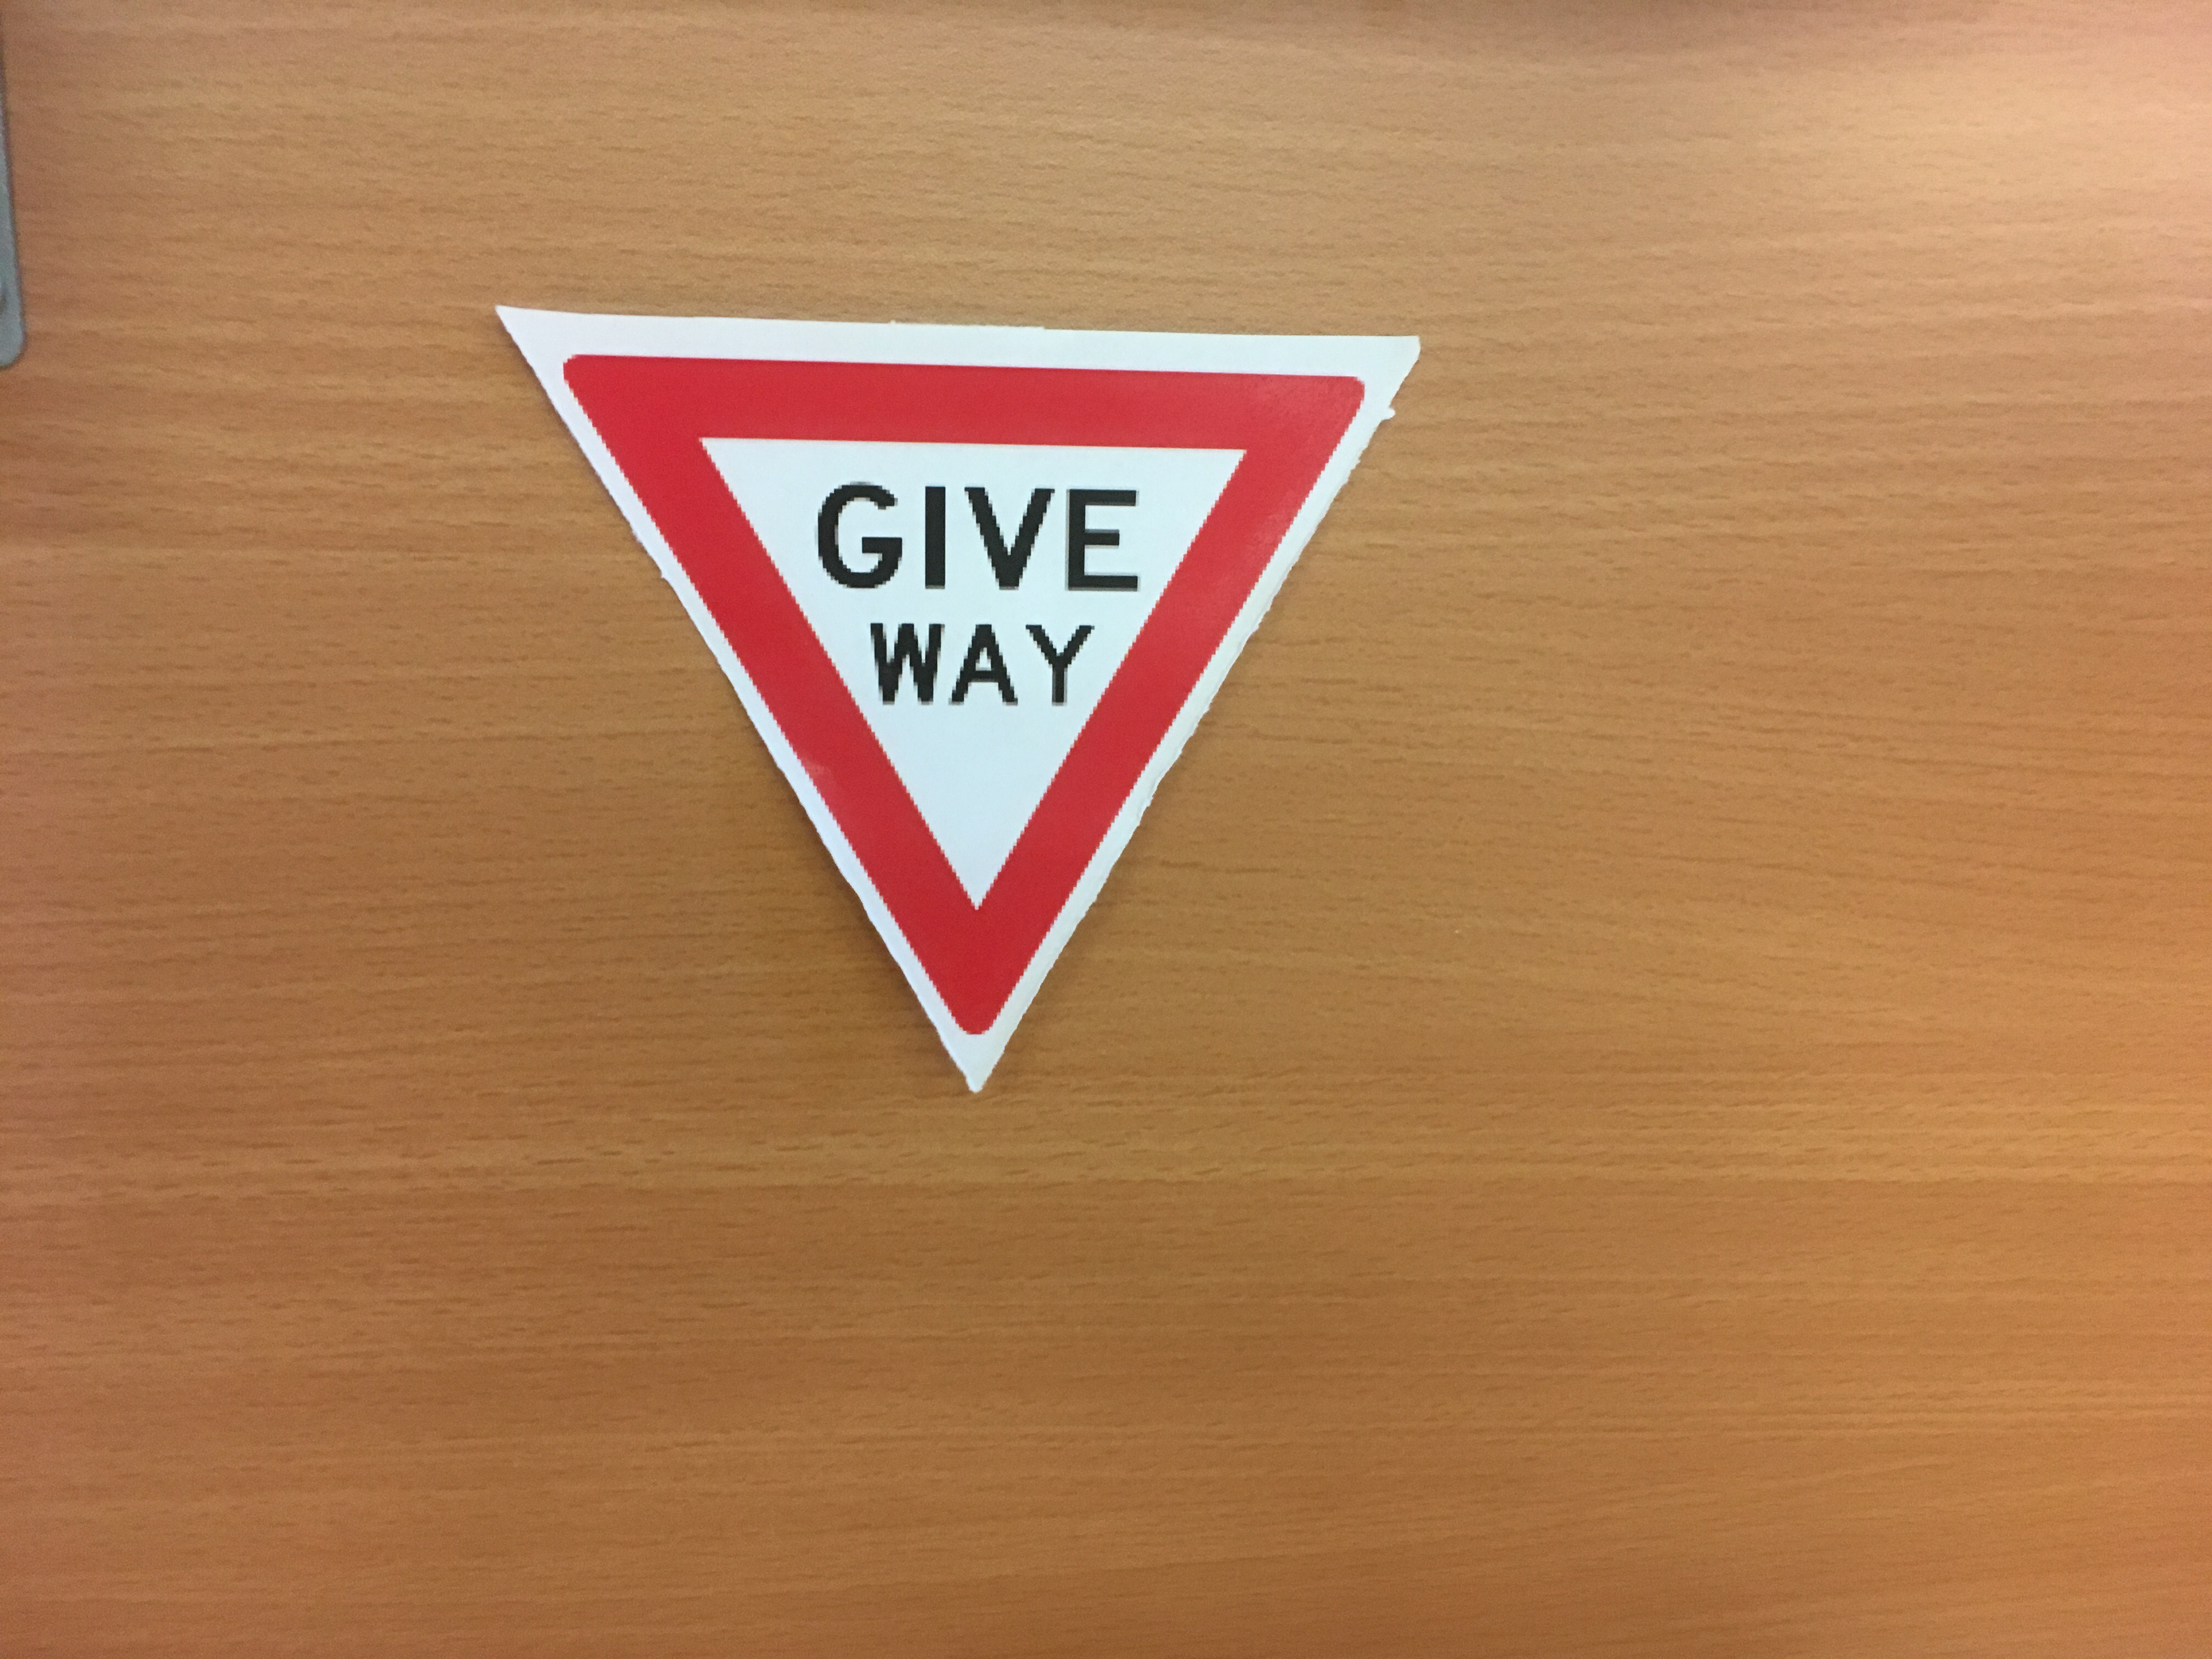giveway: (542, 314, 1418, 1039), (782, 277, 1209, 1075), (554, 314, 993, 1068), (1001, 328, 1359, 1103), (507, 268, 1369, 587), (782, 540, 1130, 1077)
